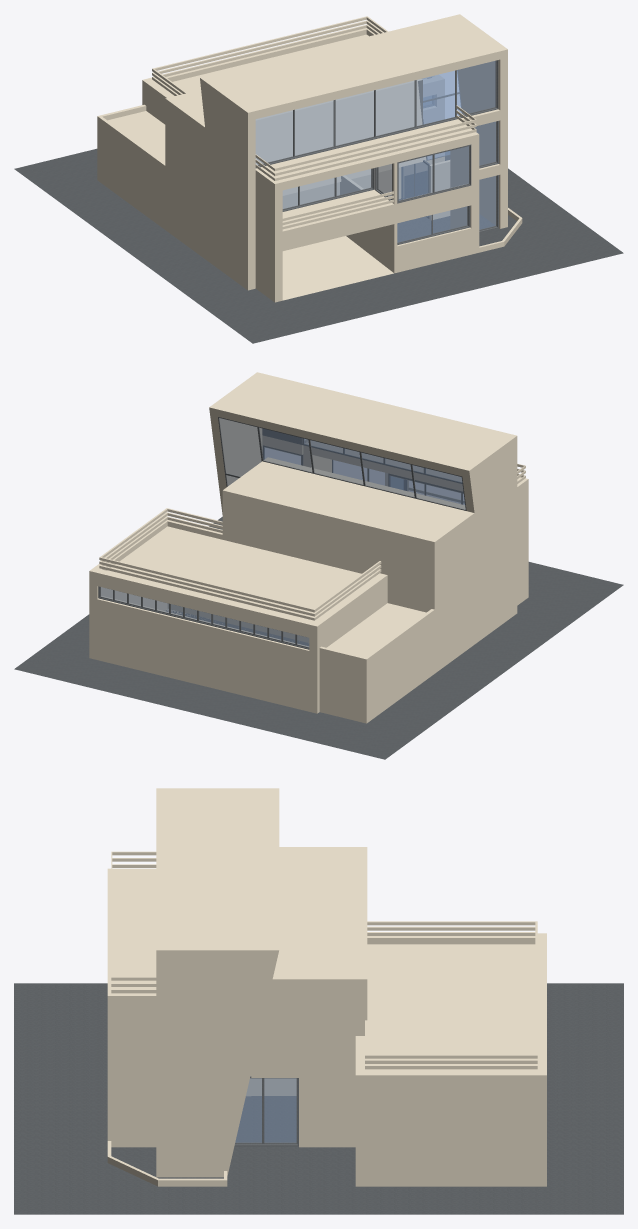
3 views of the same model, one above another, from view 1: azimuth 30°, elevation 25°; view 2: azimuth 150°, elevation 25°; view 3: azimuth 270°, elevation 25° (orthographic). The views are drawn at different scales.
Visible parts, largest first — view 1: Root Node, 19458, 19293, 20128, 19517, 22356, 21067, 24647, 19191, 21715, 19634, 21284 (+17 smaller); view 2: 22356, Root Node, 19191, 19458, 23112, 21067, 22736, 19517, 19293, 23172, 25002, 24937 (+4 smaller); view 3: Root Node, 19458, 22356, 19191, 23112, 19293, 22477, 25002, 24937, 24871, 20922, 19517 (+1 smaller).
Part boxes in pixels (x1=…): Root Node: x1=14, y1=81, x2=623, y2=343; 19458: x1=208, y1=14, x2=507, y2=228; 19293: x1=255, y1=119, x2=479, y2=302; 20128: x1=255, y1=60, x2=498, y2=168; 19517: x1=200, y1=76, x2=255, y2=290; 22356: x1=165, y1=79, x2=422, y2=269; 21067: x1=97, y1=104, x2=165, y2=229; 24647: x1=256, y1=236, x2=393, y2=300; 19191: x1=142, y1=28, x2=444, y2=175; 21715: x1=397, y1=144, x2=471, y2=203; 19634: x1=397, y1=227, x2=471, y2=272; 21284: x1=282, y1=168, x2=374, y2=211; 22356: x1=222, y1=457, x2=489, y2=673; Root Node: x1=14, y1=517, x2=623, y2=759; 19191: x1=89, y1=517, x2=387, y2=713; 19458: x1=209, y1=372, x2=508, y2=514; 23112: x1=107, y1=526, x2=372, y2=621; 21067: x1=319, y1=603, x2=434, y2=723; 22736: x1=218, y1=417, x2=466, y2=510; 19517: x1=461, y1=434, x2=517, y2=633; 19293: x1=303, y1=441, x2=528, y2=605; 23172: x1=98, y1=586, x2=309, y2=649; 25002: x1=99, y1=508, x2=381, y2=612; 24937: x1=99, y1=512, x2=381, y2=616; Root Node: x1=14, y1=983, x2=623, y2=1214; 19458: x1=156, y1=793, x2=279, y2=1177; 22356: x1=251, y1=847, x2=367, y2=1147; 19191: x1=355, y1=933, x2=546, y2=1186; 23112: x1=367, y1=944, x2=535, y2=1070; 19293: x1=107, y1=868, x2=156, y2=1147; 22477: x1=234, y1=1076, x2=298, y2=1146; 25002: x1=365, y1=921, x2=537, y2=1058; 24937: x1=365, y1=926, x2=537, y2=1063; 24871: x1=365, y1=932, x2=537, y2=1069; 20922: x1=107, y1=1141, x2=227, y2=1186; 19517: x1=156, y1=788, x2=279, y2=793.
Size of the model in its own units: 23.61 by 10.9 by 26.32.
Materials: 648 (376 with a texture image).
